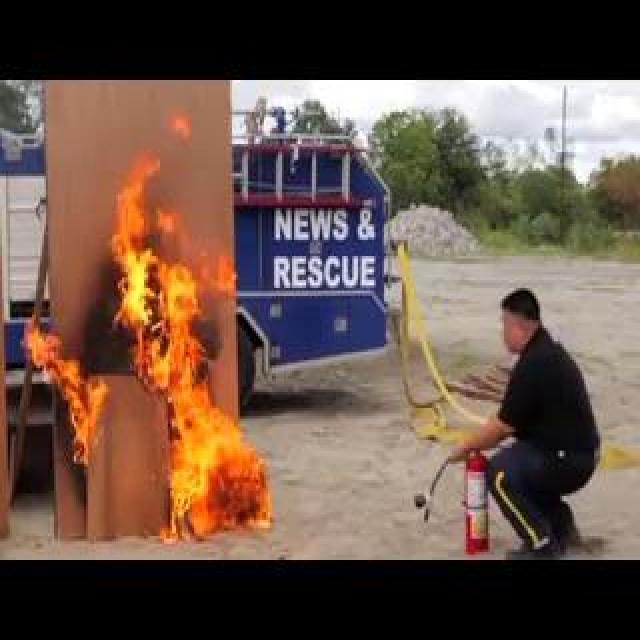Fire: (143, 336, 274, 416)
